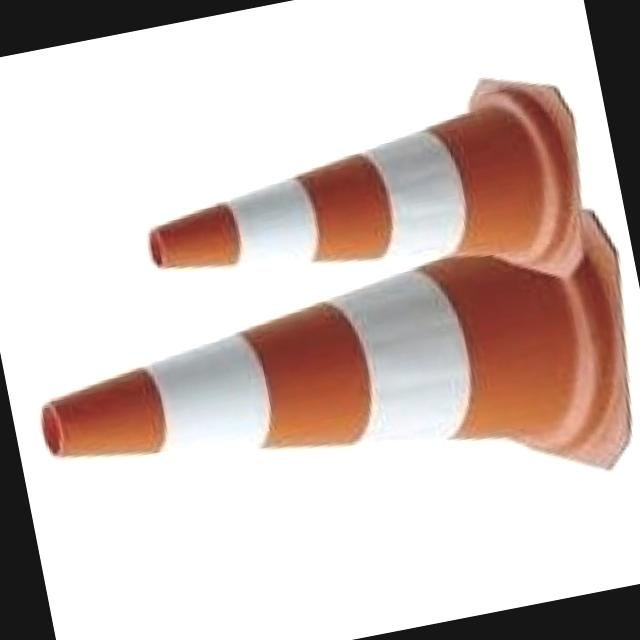cone: (13, 206, 640, 554), (125, 66, 586, 306)
